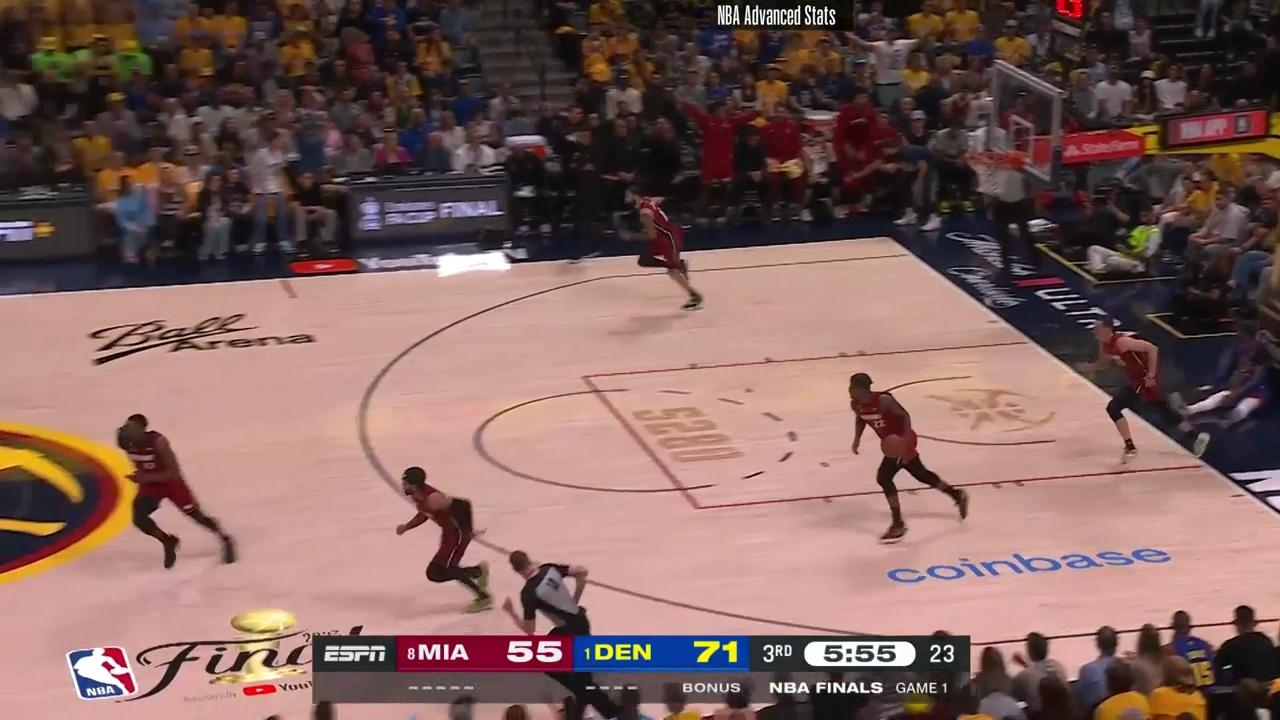Backboard: (993, 68, 1064, 180)
Ball: (880, 433, 905, 459)
Basket: (965, 149, 1021, 198)
Person: (835, 364, 980, 539), (94, 404, 243, 565), (385, 457, 513, 620), (1084, 314, 1201, 472), (626, 188, 701, 316)
Referee: (508, 547, 594, 641)
Shot Clock: (1048, 0, 1089, 46)
